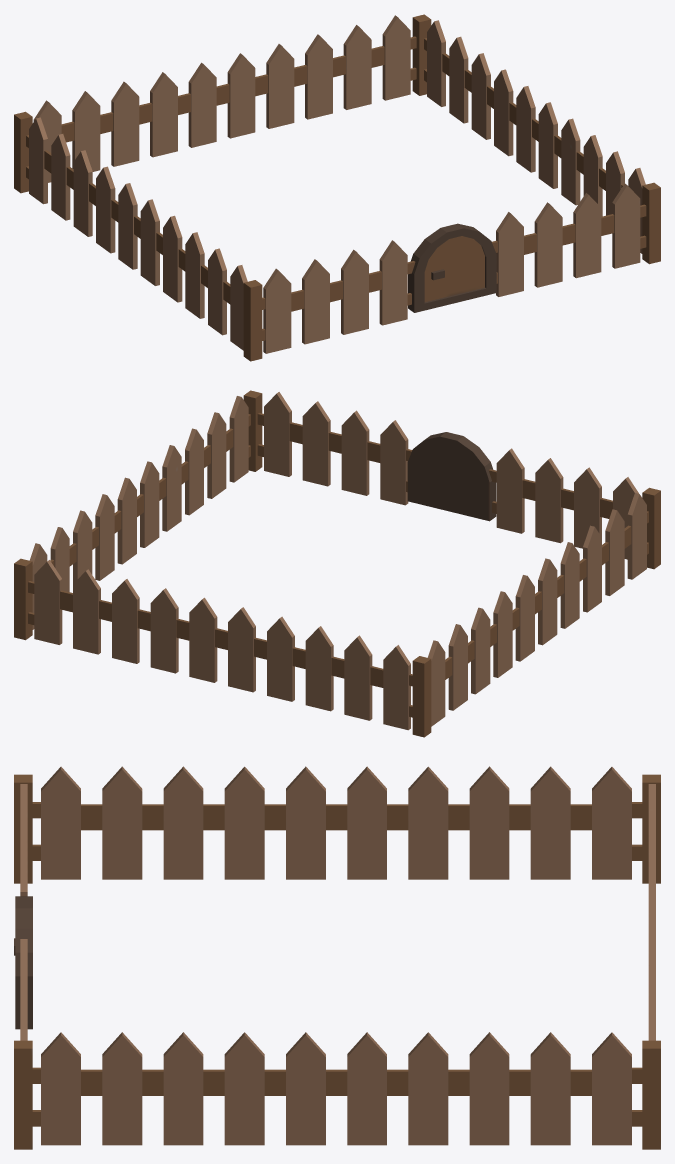
File: Fence.fbx
The picture shows the model from 3 angles, top to bottom: view 1: azimuth 30°, elevation 25°; view 2: azimuth 150°, elevation 25°; view 3: azimuth 270°, elevation 25°; orthographic projection. The views are drawn at different scales.
Parts seen in each view (by area): view 1: Fence; view 2: Fence; view 3: Fence.
Part boxes in pixels (box(x1,y1,x2,y2)): Fence: box(14, 14, 660, 361); Fence: box(14, 390, 660, 737); Fence: box(14, 766, 660, 1149).
Bounding box in the file's own units: 5.36 × 1.02 × 5.35.
